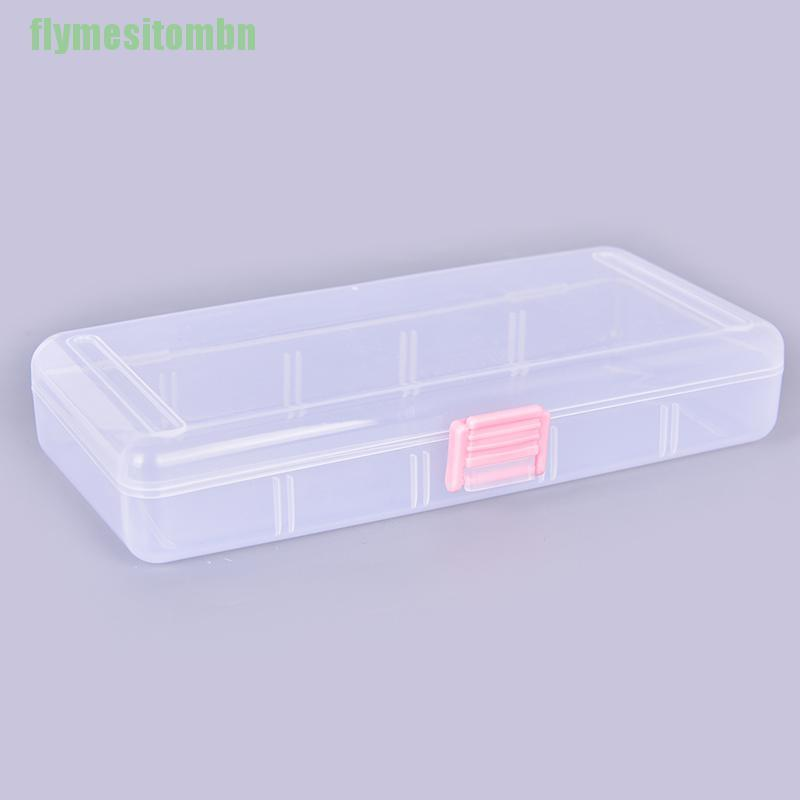PlasticBox: (23, 235, 790, 568)
